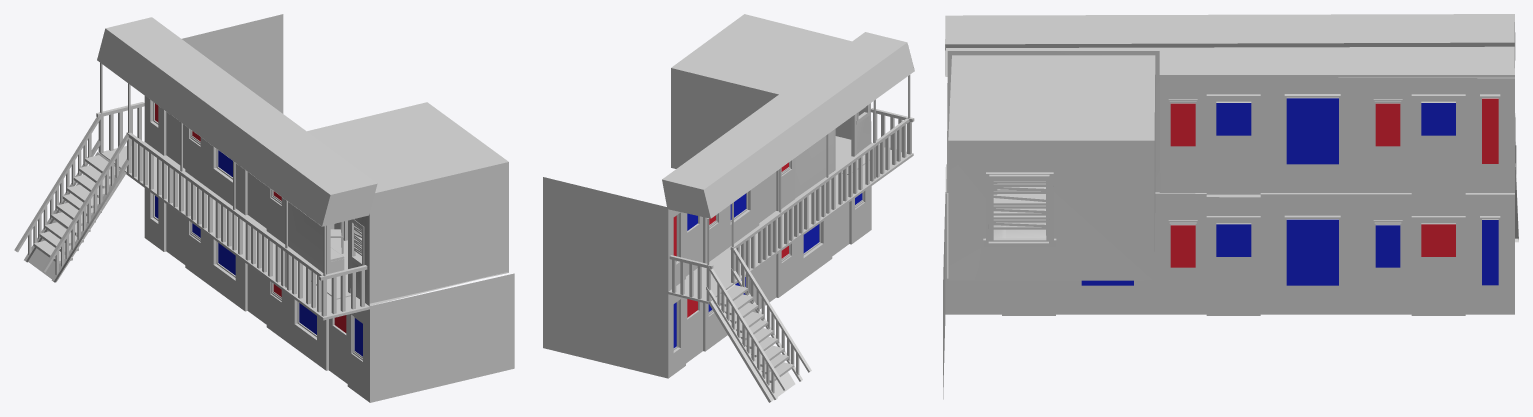
The model's file is Comienzo.fbx.
3 renders of one model, left to right at view 1: azimuth 30°, elevation 25°; view 2: azimuth 150°, elevation 25°; view 3: azimuth 270°, elevation 25°, orthographic. The views are drawn at different scales.
Parts seen in each view (by area): view 1: casa, Pieza, Techo, pasamanos1, pasamanos_R, Pisofrente, Piso; view 2: casa, Techo, Pieza, pasamanos1, pasamanos_R, Pisofrente, Piso, Puerta; view 3: casa, Pieza, Techo, rejilla, marco_ventana2, Pisofrente, Piso, CAMA.
Part boxes in pixels (x1=…): casa: x1=144, y1=14, x2=514, y2=402; Pieza: x1=285, y1=102, x2=508, y2=305; Techo: x1=97, y1=17, x2=377, y2=226; pasamanos1: x1=96, y1=63, x2=367, y2=316; pasamanos_R: x1=14, y1=112, x2=131, y2=282; Pisofrente: x1=100, y1=141, x2=369, y2=320; Piso: x1=330, y1=237, x2=507, y2=305; casa: x1=543, y1=142, x2=871, y2=378; Techo: x1=662, y1=32, x2=914, y2=218; Pieza: x1=671, y1=14, x2=871, y2=198; pasamanos1: x1=669, y1=75, x2=914, y2=301; pasamanos_R: x1=706, y1=247, x2=811, y2=402; Pisofrente: x1=666, y1=143, x2=913, y2=303; Piso: x1=835, y1=136, x2=852, y2=168; Puerta: x1=833, y1=113, x2=856, y2=171; casa: x1=943, y1=75, x2=1514, y2=399; Pieza: x1=946, y1=51, x2=1160, y2=280; Techo: x1=945, y1=14, x2=1515, y2=78; rejilla: x1=993, y1=181, x2=1045, y2=229; marco_ventana2: x1=983, y1=172, x2=1056, y2=247; Pisofrente: x1=945, y1=164, x2=1514, y2=197; Piso: x1=947, y1=193, x2=1045, y2=278; CAMA: x1=993, y1=222, x2=1046, y2=238.
Size of the model in its own units: 3603 by 2741 by 5176.
